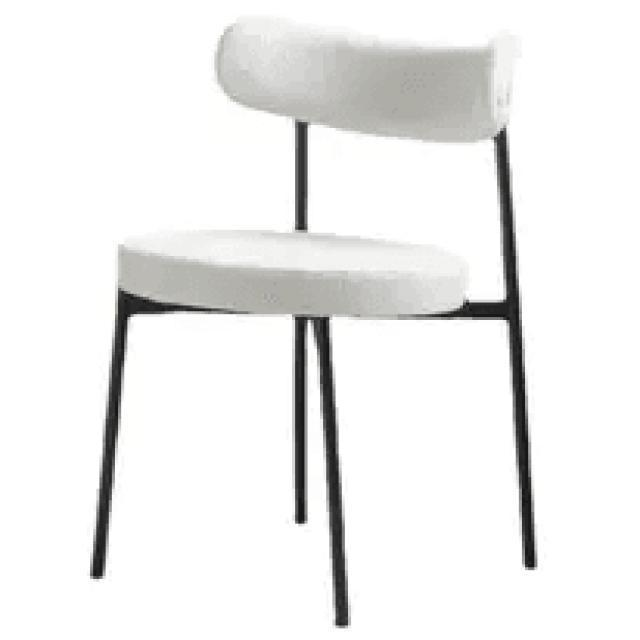chair: (84, 5, 546, 632), (89, 22, 514, 316)
